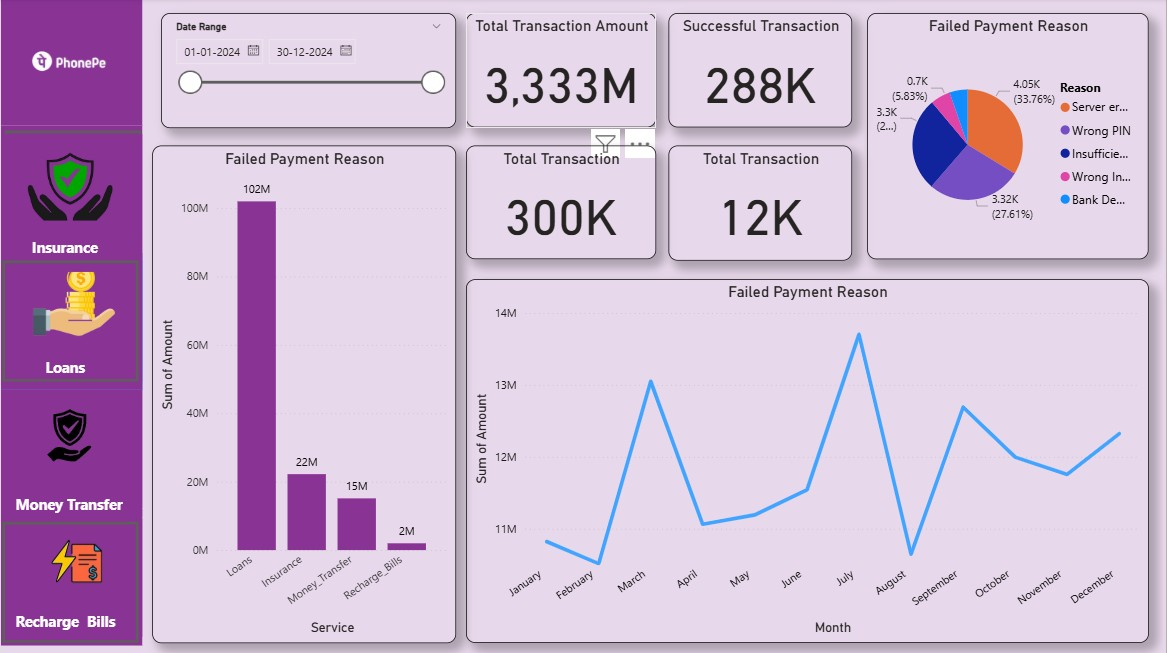

This screenshot's page, from the dashboard's own definition file:
{"tool":"powerbi","page":{"name":"Home","canvas":[1280,720],"ordinal":0},"visuals":[{"type":"slicer","fields":{"Values":["All_Transactions.Date"]},"box":[175.6,16.5,323.8,126.2],"z":0},{"type":"shape","box":[0,560.9,155.1,140.2],"z":0,"group":"g4"},{"type":"shape","box":[0,570.3,155.1,140.2],"z":0,"group":"g5"},{"type":"card","title":"Total Transaction Amount","fields":{"Values":["Sum(All_Transactions.Amount)"]},"box":[509.9,17.1,209.1,126],"z":1000},{"type":"image","box":[32.9,561.2,101.5,97.4],"z":1000,"group":"g4"},{"type":"image","box":[32.9,570.6,101.5,97.4],"z":1000,"group":"g5"},{"type":"card","title":"Successful Transaction ","fields":{"Values":["CountNonNull(All_Transactions.Transaction_ID)"]},"box":[732.5,17.1,201.8,126],"z":2000},{"type":"textbox","box":[11,658.6,130.4,42.5],"z":2000,"group":"g4"},{"type":"textbox","box":[11,668,130.4,42.5],"z":2000,"group":"g5"},{"type":"group","id":"g1","title":"Group 4","box":[0,140.2,155.1,421],"z":3000,"group":"g4"},{"type":"group","id":"g2","title":"Group 4","box":[0,149.6,155.1,421],"z":3000,"group":"g5"},{"type":"card","title":"Total Transaction ","fields":{"Values":["CountNonNull(All_Transactions.Transaction_ID)"]},"box":[510.5,161.9,208.6,124.9],"z":3000},{"type":"actionButton","box":[4.1,145.4,149.6,133.1],"z":4000,"group":"g4"},{"type":"card","title":"Total Transaction ","fields":{"Values":["CountNonNull(All_Transactions.Transaction_ID)"]},"box":[732.8,161.9,201.7,126.2],"z":4000},{"type":"actionButton","box":[1.4,288.8,149.6,133.1],"z":4000,"group":"g5"},{"type":"actionButton","box":[0,437.7,149.6,133.1],"z":5000},{"type":"lineChart","title":"Failed Payment Reason","fields":{"Y":["Sum(All_Transactions.Amount)"],"Category":["All_Transactions.Date.Variation.Date Hierarchy.Month"]},"box":[510.5,308.7,749.2,399.3],"z":6000},{"type":"clusteredColumnChart","title":"Failed Payment Reason","fields":{"Category":["All_Transactions.Service"],"Y":["Sum(All_Transactions.Amount)"]},"box":[166,161.9,333.4,546.1],"z":7000},{"type":"shape","box":[0,0,155.1,140.2],"z":8000,"group":"g3"},{"type":"pieChart","title":"Failed Payment Reason","fields":{"Category":["All_Transactions.Reason"],"Y":["CountNonNull(All_Transactions.Reason)"]},"box":[950.9,16.5,308.7,270.3],"z":8000},{"type":"group","id":"g3","title":"Group 1","box":[0,0,155.1,140.2],"z":9000},{"type":"shape","box":[0,140.2,155.1,140.2],"z":9000,"group":"g6"},{"type":"shape","box":[0,149.6,155.1,140.2],"z":9000,"group":"g7"},{"type":"group","id":"g4","title":"Group 5","box":[0,140.2,155.1,561],"z":10000},{"type":"shape","box":[0,280.4,155.1,140.2],"z":10000,"group":"g8"},{"type":"shape","box":[0,289.8,155.1,140.2],"z":10000,"group":"g9"},{"type":"group","id":"g5","title":"Group 5","box":[0,149.6,155.1,561],"z":11000},{"type":"shape","box":[0,420.7,155.1,140.2],"z":11000,"group":"g1"},{"type":"shape","box":[0,430.1,155.1,140.2],"z":11000,"group":"g2"},{"type":"actionButton","box":[1.4,575,149.6,133.1],"z":12000},{"type":"image","box":[24.7,142.7,102.9,109.8],"z":13000,"group":"g6"},{"type":"image","box":[24.7,152.1,102.9,109.8],"z":13000,"group":"g7"},{"type":"image","box":[24.7,421.2,101.5,98.8],"z":14000,"group":"g1"},{"type":"image","box":[24.7,430.6,101.5,98.8],"z":14000,"group":"g2"},{"type":"image","box":[26.1,279.9,108.4,100.2],"z":15000,"group":"g8"},{"type":"image","box":[26.1,289.3,108.4,100.2],"z":15000,"group":"g9"},{"type":"image","box":[6.9,9.6,134.5,119.4],"z":17000,"group":"g3"},{"type":"textbox","box":[43.9,380.1,65.9,31.6],"z":18000,"group":"g8"},{"type":"textbox","box":[43.9,389.5,65.9,31.6],"z":18000,"group":"g9"},{"type":"textbox","box":[28.8,248.3,97.4,31.6],"z":19000,"group":"g6"},{"type":"textbox","box":[28.8,257.7,97.4,31.6],"z":19000,"group":"g7"},{"type":"textbox","box":[11,529.6,140,31.6],"z":20000,"group":"g1"},{"type":"textbox","box":[11,539,140,31.6],"z":20000,"group":"g2"},{"type":"group","id":"g6","title":"Group 2","box":[0,140.2,155.1,140.2],"z":21002,"group":"g8"},{"type":"group","id":"g7","title":"Group 2","box":[0,149.6,155.1,140.2],"z":21002,"group":"g9"},{"type":"group","id":"g8","title":"Group 3","box":[0,140.2,155.1,280.5],"z":21003,"group":"g1"},{"type":"group","id":"g9","title":"Group 3","box":[0,149.6,155.1,280.5],"z":21003,"group":"g2"}]}

Visuals, with their boxes on the page's 1280x720 design canvas (x1, y1, x2, y2). These are canvas units, not pixel positions in the 1167x653 screenshot, which may show the page scaled, cropped or inside an application window:
slicer - All_Transactions.Date: BBox(176, 16, 499, 143)
shape: BBox(0, 561, 155, 701)
shape: BBox(0, 570, 155, 710)
"Total Transaction Amount" card: BBox(510, 17, 719, 143)
image: BBox(33, 561, 134, 659)
image: BBox(33, 571, 134, 668)
"Successful Transaction " card: BBox(732, 17, 934, 143)
textbox: BBox(11, 659, 141, 701)
textbox: BBox(11, 668, 141, 710)
"Group 4" group: BBox(0, 140, 155, 561)
"Group 4" group: BBox(0, 150, 155, 571)
"Total Transaction " card: BBox(510, 162, 719, 287)
actionButton: BBox(4, 145, 154, 278)
"Total Transaction " card: BBox(733, 162, 934, 288)
actionButton: BBox(1, 289, 151, 422)
actionButton: BBox(0, 438, 150, 571)
"Failed Payment Reason" lineChart: BBox(510, 309, 1260, 708)
"Failed Payment Reason" clusteredColumnChart: BBox(166, 162, 499, 708)
shape: BBox(0, 0, 155, 140)
"Failed Payment Reason" pieChart: BBox(951, 16, 1260, 287)
"Group 1" group: BBox(0, 0, 155, 140)
shape: BBox(0, 140, 155, 280)
shape: BBox(0, 150, 155, 290)
"Group 5" group: BBox(0, 140, 155, 701)
shape: BBox(0, 280, 155, 421)
shape: BBox(0, 290, 155, 430)
"Group 5" group: BBox(0, 150, 155, 711)
shape: BBox(0, 421, 155, 561)
shape: BBox(0, 430, 155, 570)
actionButton: BBox(1, 575, 151, 708)
image: BBox(25, 143, 128, 252)
image: BBox(25, 152, 128, 262)
image: BBox(25, 421, 126, 520)
image: BBox(25, 431, 126, 529)
image: BBox(26, 280, 134, 380)
image: BBox(26, 289, 134, 390)
image: BBox(7, 10, 141, 129)
textbox: BBox(44, 380, 110, 412)
textbox: BBox(44, 390, 110, 421)
textbox: BBox(29, 248, 126, 280)
textbox: BBox(29, 258, 126, 289)
textbox: BBox(11, 530, 151, 561)
textbox: BBox(11, 539, 151, 571)
"Group 2" group: BBox(0, 140, 155, 280)
"Group 2" group: BBox(0, 150, 155, 290)
"Group 3" group: BBox(0, 140, 155, 421)
"Group 3" group: BBox(0, 150, 155, 430)
